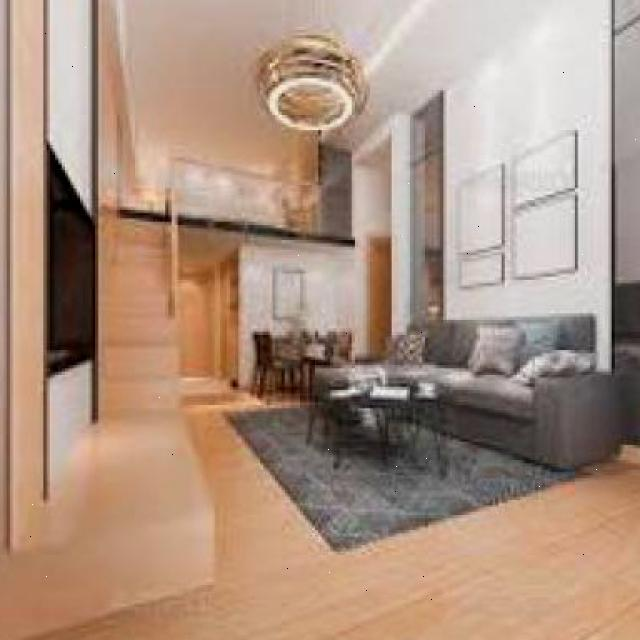stair: (87, 268, 205, 433)
